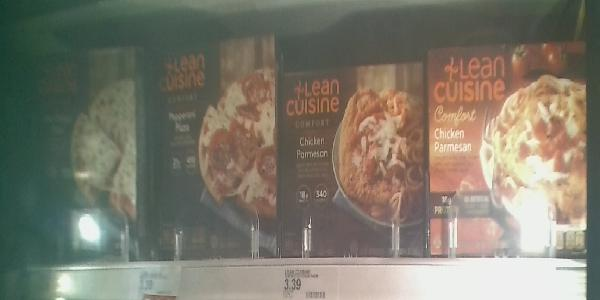pizza1: (425, 39, 586, 261), (150, 29, 282, 258), (12, 46, 150, 257), (283, 65, 432, 256)
